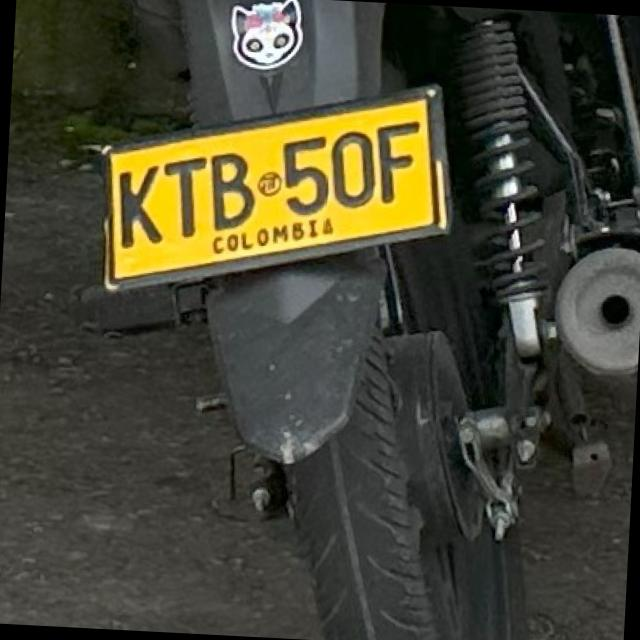number plate: (104, 84, 447, 285)
